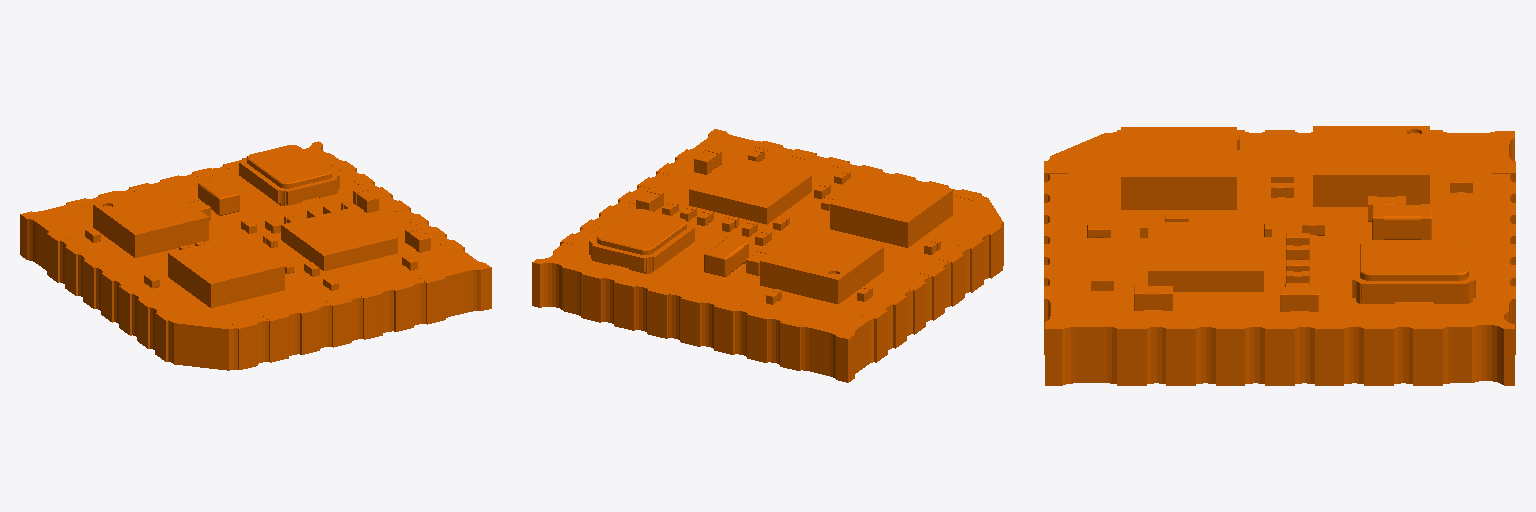
robot.urdf — mti_1:
<?xml version="1.0"?>
<robot name="mti_1">
  <link name="imu_link">
    <visual>
      <origin rpy="0 0 1.57079632679" xyz="0.0121 0 0.0016"/>
      <geometry>
        <mesh filename="package://xsens_mti_driver/urdf/MTi_1.stl" scale="0.001 0.001 0.001"/>
      </geometry>
      <material name="xsens_orange">
        <color rgba="0.92 0.45 0.02 1.0"/>
      </material>
    </visual>
  </link>
</robot>

--- What the picture shows (computed from the rendered views, not written in the file) ---
Views: 3 orthographic renders of the robot side by side, from view 1: azimuth 30°, elevation 25°; view 2: azimuth 150°, elevation 25°; view 3: azimuth 270°, elevation 25°.
Model mti_1 with 1 links and 0 joints (none), rooted at imu_link, posed every joint at zero.
Links seen in each view (by area): view 1: imu_link; view 2: imu_link; view 3: imu_link.
Boxes of the visible links, box(x1,y1,x2,y2) form: imu_link: box(20, 141, 491, 370); imu_link: box(532, 129, 1003, 382); imu_link: box(1044, 126, 1515, 385).
Bounding box of the posed robot: 0.0121 × 0.0121 × 0.0026 m (x, y, z).
1 mesh visuals loaded from 1 distinct referenced files (1 binary STL).